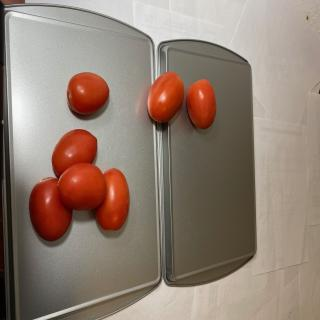Tomato: (29, 176, 72, 242), (57, 162, 107, 211), (94, 167, 130, 231), (52, 129, 98, 177), (147, 71, 184, 123), (66, 72, 110, 115), (186, 78, 216, 130)
